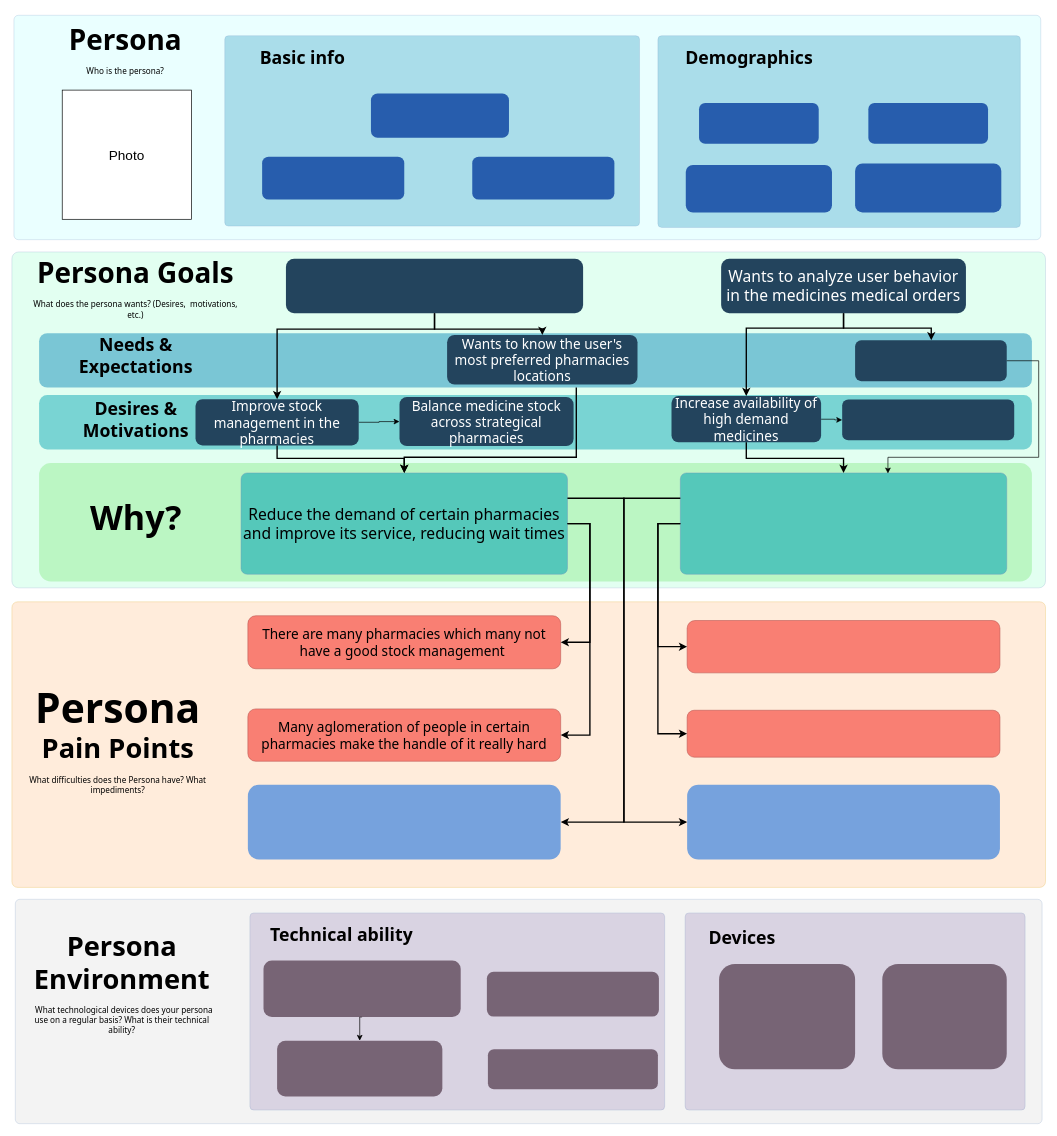
This 1057x1136 diagram has some shape labels left out. Each missing label, with the centre of its shape:
Reduce users complaints regarding the lack of medicines: the point at 843,523
Track amount of specifics medicines requests: the point at 928,419
Want to analyze user behavior in EPS approved pharmacies: the point at 434,285
Wants to know the most ordered medicines: the point at 930,360
